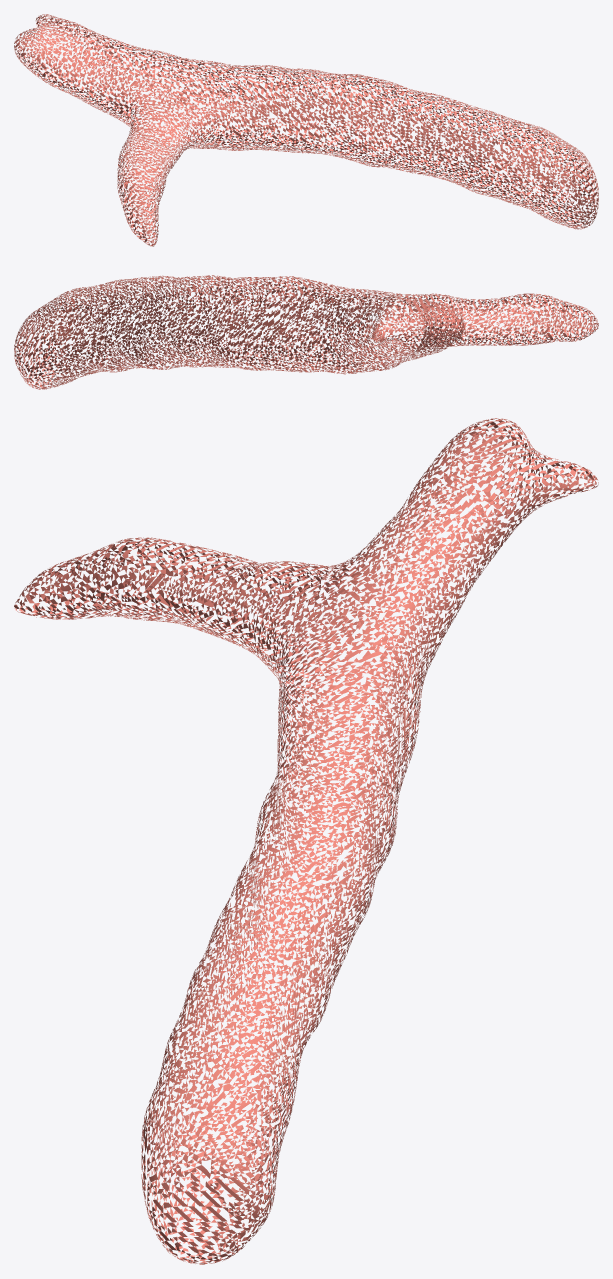
File: diseased.glb
3 renders of one model, top to bottom at view 1: azimuth 30°, elevation 25°; view 2: azimuth 150°, elevation 25°; view 3: azimuth 270°, elevation 25°, orthographic. The views are drawn at different scales.
Bounding box in the file's own units: 133 × 63.1 × 76.05.
